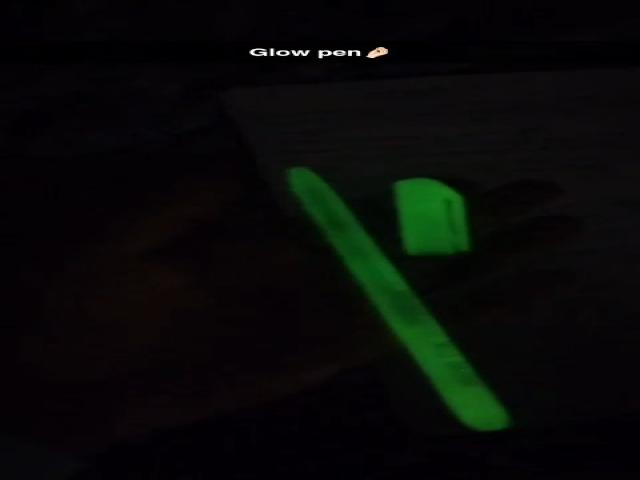PEN: (254, 137, 530, 462)
